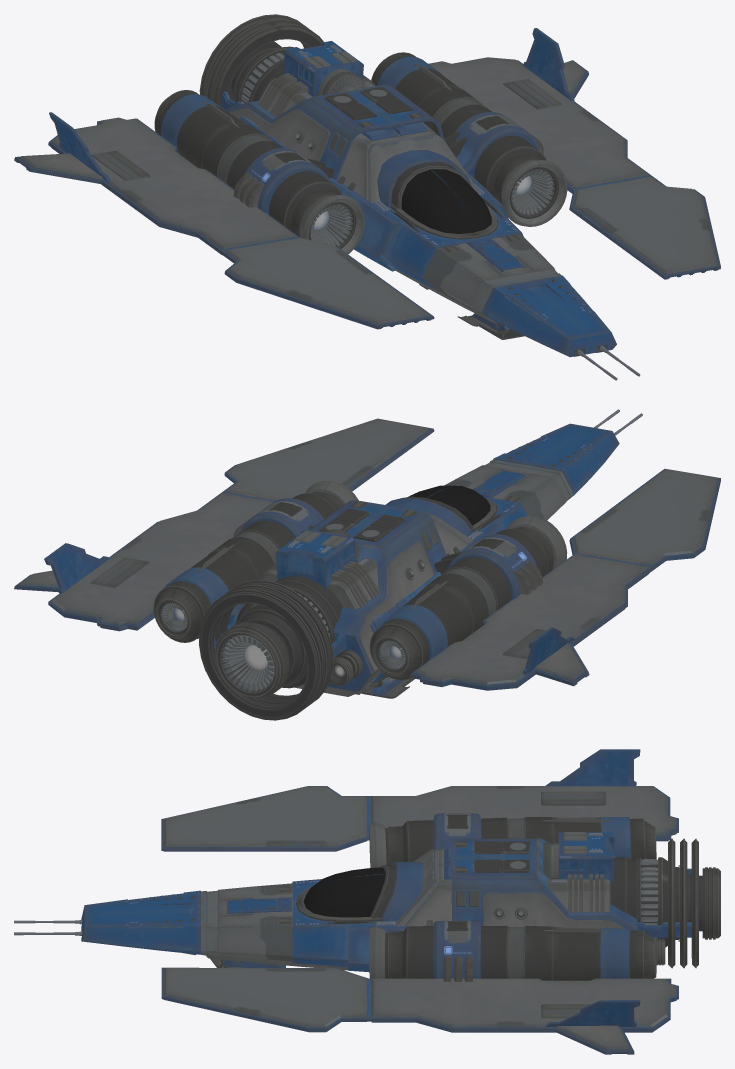
The model's file is spaceship_cb2.glb.
3 views of the same model, one above another, from view 1: azimuth 30°, elevation 25°; view 2: azimuth 150°, elevation 25°; view 3: azimuth 270°, elevation 25° (orthographic). The views are drawn at different scales.
Parts seen in each view (by area): view 1: Cube_Material.001_0, Cylinder.006_Material.001_0, Cylinder.001_Material.001_0, Cube.033_Material.001_0; view 2: Cube_Material.001_0, Cylinder.002_Material.001_0, Cube.030_Material.001_0, Cylinder.005_Material.001_0, Cylinder.003_Material.001_0; view 3: Cube_Material.001_0.
Boxes of the visible parts, x1=… form: Cube_Material.001_0: x1=14, y1=14, x2=720, y2=380; Cylinder.006_Material.001_0: x1=511, y1=169, x2=554, y2=215; Cylinder.001_Material.001_0: x1=310, y1=204, x2=352, y2=246; Cube.033_Material.001_0: x1=457, y1=313, x2=524, y2=339; Cube_Material.001_0: x1=14, y1=409, x2=720, y2=720; Cylinder.002_Material.001_0: x1=221, y1=635, x2=274, y2=692; Cube.030_Material.001_0: x1=361, y1=677, x2=414, y2=698; Cylinder.005_Material.001_0: x1=379, y1=640, x2=405, y2=669; Cylinder.003_Material.001_0: x1=161, y1=603, x2=187, y2=631; Cube_Material.001_0: x1=14, y1=749, x2=720, y2=1054.
Bounding box in the file's own units: 44.86 × 12.32 × 53.04.
1 material, 1 textured.
